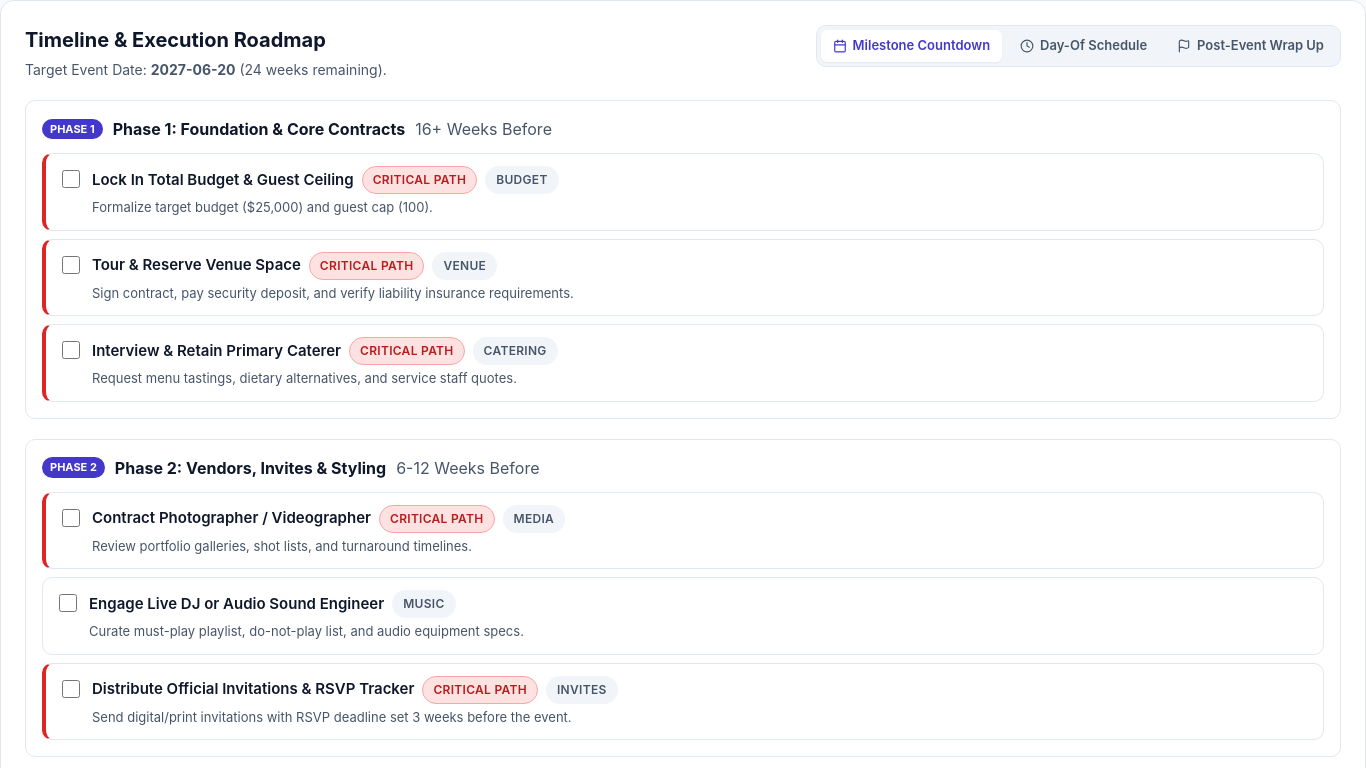
Test case: React Component Suite › renders TimelineSection and allows toggling tabs and tasks
Expected: the tab "Milestone Countdown" is shown, left=821, top=30, right=1002, bottom=62
Note: Click Day-Of Schedule tab
Click the tab "Day-Of Schedule": (1084, 46) left=1008, top=30, right=1159, bottom=62
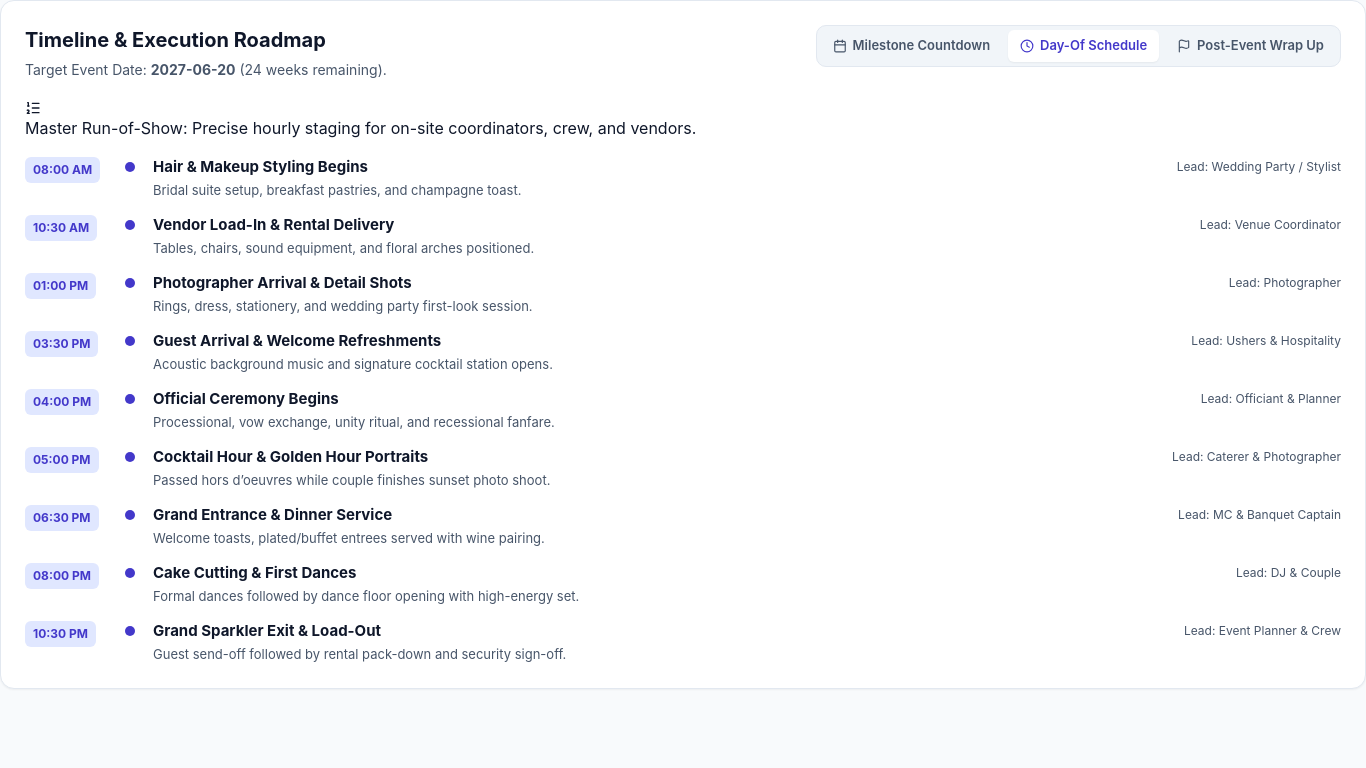
Expected: the text "Master Run-of-Show" is shown, left=25, top=118, right=696, bottom=138
